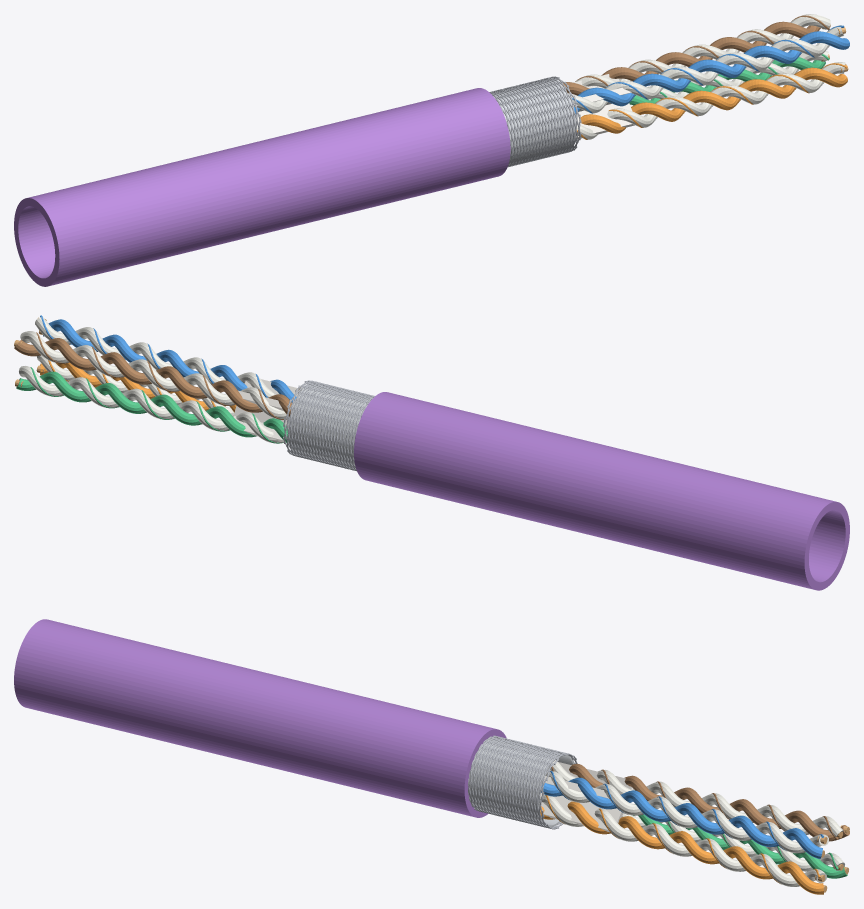
File: cat8.glb
3 renders of one model, top to bottom at view 1: azimuth 30°, elevation 25°; view 2: azimuth 150°, elevation 25°; view 3: azimuth 330°, elevation 25°, orthographic.
Visible parts, largest first — view 1: 01_Jaket_Luar_PVC_Berongga, 05_Pasangan_1_biru_Berwarna, 05_Pasangan_2_oren_Berwarna, 05_Pasangan_1_biru_Putih_Berjalur, 05_Pasangan_2_oren_Putih_Berjalur, 02_Foil_Screen_Aluminium, 05_Pasangan_4_coklat_Berwarna, 05_Pasangan_4_coklat_Putih_Berjalur, 05_Pasangan_3_hijau_Berwarna, 05_Pasangan_3_hijau_Putih_Berjalur, 04_Pemisah_Teras_2; view 2: 01_Jaket_Luar_PVC_Berongga, 05_Pasangan_4_coklat_Berwarna, 05_Pasangan_3_hijau_Berwarna, 05_Pasangan_4_coklat_Putih_Berjalur, 05_Pasangan_3_hijau_Putih_Berjalur, 02_Foil_Screen_Aluminium, 05_Pasangan_1_biru_Berwarna, 05_Pasangan_1_biru_Putih_Berjalur, 05_Pasangan_2_oren_Putih_Berjalur, 05_Pasangan_2_oren_Berwarna; view 3: 01_Jaket_Luar_PVC_Berongga, 05_Pasangan_1_biru_Berwarna, 05_Pasangan_2_oren_Berwarna, 05_Pasangan_2_oren_Putih_Berjalur, 05_Pasangan_1_biru_Putih_Berjalur, 02_Foil_Screen_Aluminium, 05_Pasangan_4_coklat_Berwarna, 05_Pasangan_4_coklat_Putih_Berjalur, 05_Pasangan_3_hijau_Berwarna, 05_Pasangan_3_hijau_Putih_Berjalur, 04_Pemisah_Teras_2.
Boxes of the visible parts, <box> form: 01_Jaket_Luar_PVC_Berongga: <box>14,88,510,286</box>; 05_Pasangan_1_biru_Berwarna: <box>574,31,849,114</box>; 05_Pasangan_2_oren_Berwarna: <box>580,67,847,133</box>; 05_Pasangan_1_biru_Putih_Berjalur: <box>569,25,843,113</box>; 05_Pasangan_2_oren_Putih_Berjalur: <box>576,62,845,139</box>; 02_Foil_Screen_Aluminium: <box>493,79,575,163</box>; 05_Pasangan_4_coklat_Berwarna: <box>562,21,820,95</box>; 05_Pasangan_4_coklat_Putih_Berjalur: <box>575,14,830,88</box>; 05_Pasangan_3_hijau_Berwarna: <box>629,57,825,105</box>; 05_Pasangan_3_hijau_Putih_Berjalur: <box>630,51,828,106</box>; 04_Pemisah_Teras_2: <box>575,103,634,138</box>; 01_Jaket_Luar_PVC_Berongga: <box>354,392,849,590</box>; 05_Pasangan_4_coklat_Berwarna: <box>14,338,291,416</box>; 05_Pasangan_3_hijau_Berwarna: <box>16,371,288,442</box>; 05_Pasangan_4_coklat_Putih_Berjalur: <box>20,331,288,419</box>; 05_Pasangan_3_hijau_Putih_Berjalur: <box>19,366,283,443</box>; 02_Foil_Screen_Aluminium: <box>288,384,370,467</box>; 05_Pasangan_1_biru_Berwarna: <box>43,319,296,402</box>; 05_Pasangan_1_biru_Putih_Berjalur: <box>35,317,303,397</box>; 05_Pasangan_2_oren_Putih_Berjalur: <box>37,355,234,416</box>; 05_Pasangan_2_oren_Berwarna: <box>40,362,236,412</box>; 01_Jaket_Luar_PVC_Berongga: <box>14,619,506,817</box>; 05_Pasangan_1_biru_Berwarna: <box>541,777,822,858</box>; 05_Pasangan_2_oren_Berwarna: <box>540,801,823,894</box>; 05_Pasangan_2_oren_Putih_Berjalur: <box>540,794,826,886</box>; 05_Pasangan_1_biru_Putih_Berjalur: <box>545,771,828,853</box>; 02_Foil_Screen_Aluminium: <box>469,738,573,826</box>; 05_Pasangan_4_coklat_Berwarna: <box>569,763,849,841</box>; 05_Pasangan_4_coklat_Putih_Berjalur: <box>550,760,843,836</box>; 05_Pasangan_3_hijau_Berwarna: <box>633,804,847,878</box>; 05_Pasangan_3_hijau_Putih_Berjalur: <box>621,813,844,871</box>; 04_Pemisah_Teras_2: <box>539,793,623,832</box>.
Size of the model in its own units: 18.27 by 1.8 by 1.8.
